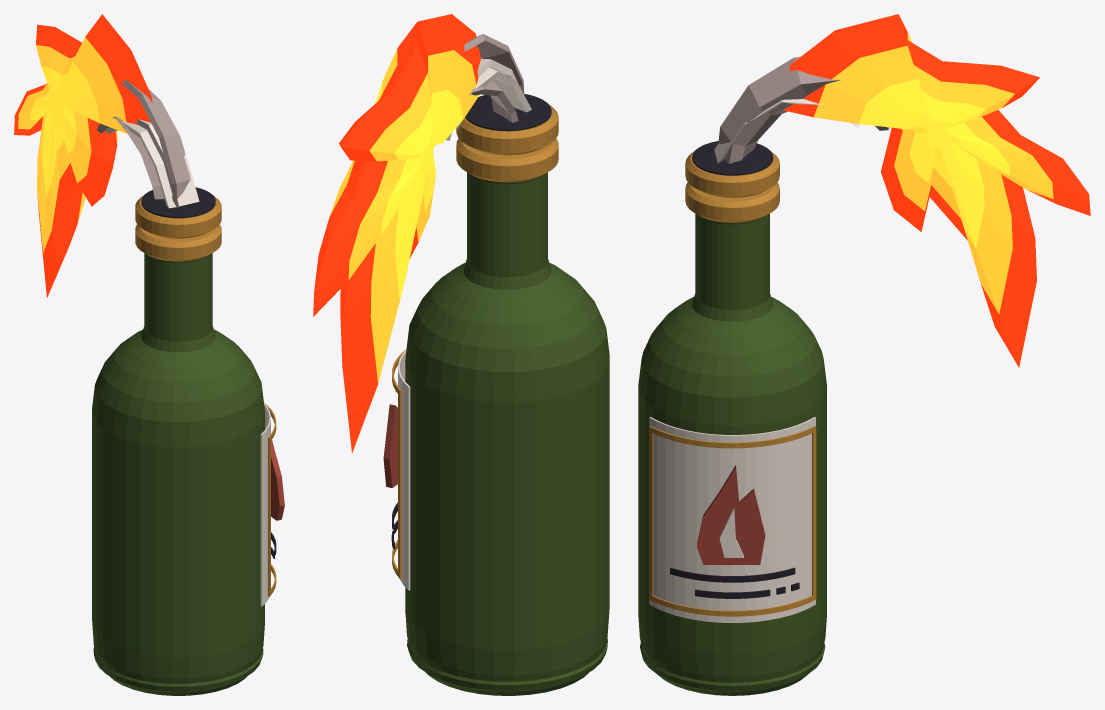
3 renders of one model, left to right at view 1: azimuth 30°, elevation 25°; view 2: azimuth 150°, elevation 25°; view 3: azimuth 270°, elevation 25°, orthographic. The views are drawn at different scales.
Parts seen in each view (by area): view 1: body, flame, woodWarm, picketWhite, sidewalk, uiDark, brick; view 2: body, flame, woodWarm, picketWhite, uiDark, sidewalk, brick; view 3: body, flame, picketWhite, woodWarm, sidewalk, brick, uiDark.
Boxes of the visible parts, <box> form: body: <box>92,253,264,695</box>; flame: <box>14,14,152,297</box>; woodWarm: <box>135,195,276,596</box>; picketWhite: <box>106,119,270,606</box>; sidewalk: <box>96,80,190,207</box>; uiDark: <box>141,187,276,558</box>; brick: <box>271,440,284,520</box>; body: <box>405,172,609,695</box>; flame: <box>313,14,480,453</box>; woodWarm: <box>392,103,558,578</box>; picketWhite: <box>398,58,531,590</box>; uiDark: <box>391,94,551,549</box>; sidewalk: <box>446,34,524,140</box>; brick: <box>383,404,397,487</box>; body: <box>638,213,826,695</box>; flame: <box>783,14,1090,367</box>; picketWhite: <box>649,99,859,622</box>; woodWarm: <box>649,151,816,616</box>; sidewalk: <box>718,56,889,163</box>; brick: <box>697,465,765,564</box>; uiDark: <box>670,141,799,598</box>.
Bounding box in the file's own units: 0.1305 × 0.442 × 0.278.
